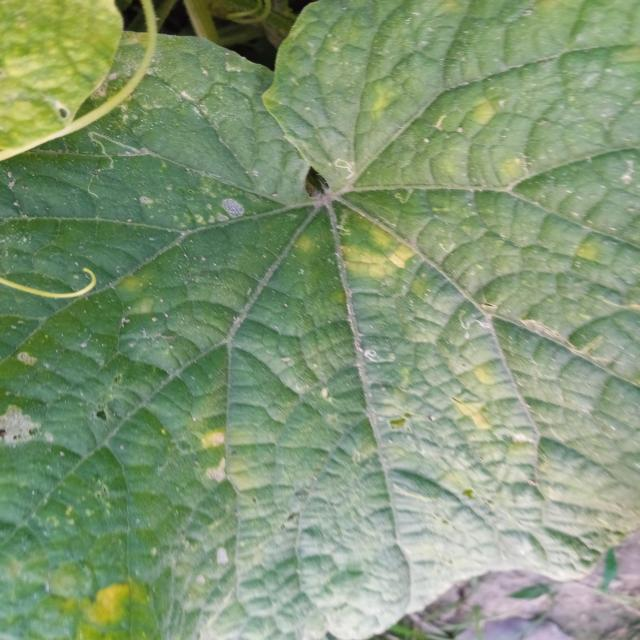cucumber_downy: (49, 5, 638, 621)
